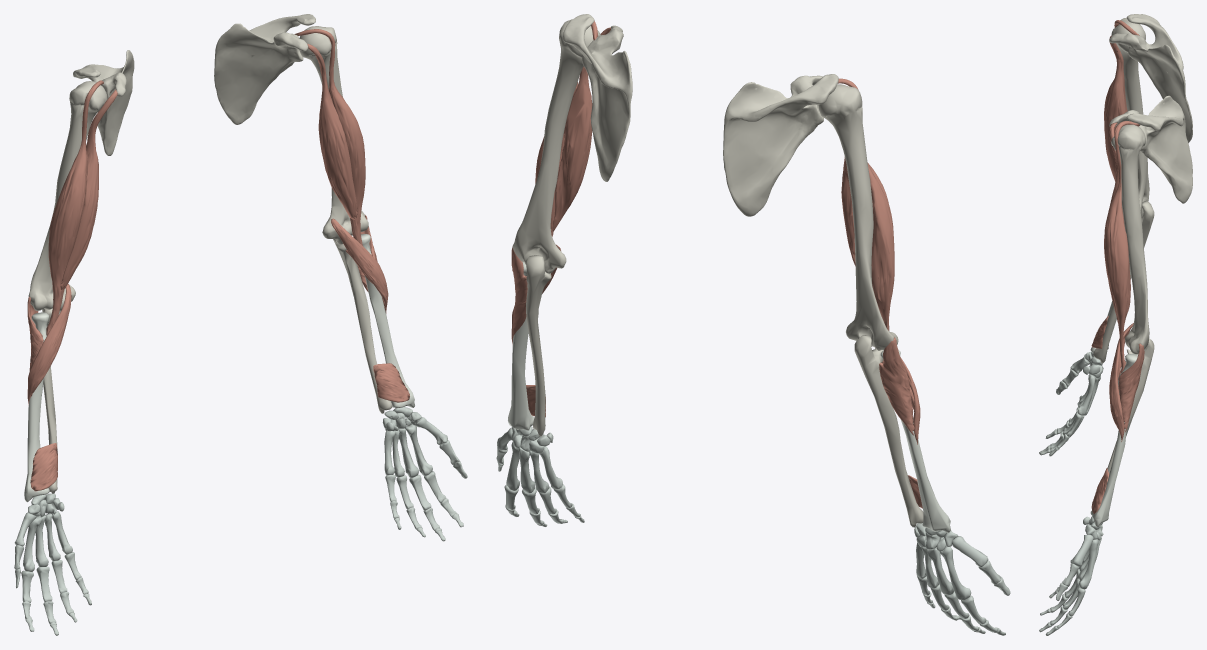
Rendered from motion-forearm.glb.
3 views of the same model, side by side, from view 1: azimuth 30°, elevation 25°; view 2: azimuth 150°, elevation 25°; view 3: azimuth 270°, elevation 25° (orthographic). The views are drawn at different scales.
Parts seen in each view (by area): view 1: Left Scapula, Right Long head of biceps brachii, Right Humerus, Left Short head of biceps brachii, Right Scapula, Left Long head of biceps brachii, Right Short head of biceps brachii, Left Humerus, Left Ulna, Right Radius, Right Superficial head of pronator teres, Left Radius (+4 smaller); view 2: Right Scapula, Right Humerus, Left Scapula, Left Humerus, Left Short head of biceps brachii, Right Ulna, Right Long head of biceps brachii, Left Ulna, Left Radius, Right Supinator, Right Radius, Left Supinator (+1 smaller); view 3: Left Humerus, Left Scapula, Right Scapula, Left Long head of biceps brachii, Right Humerus, Right Short head of biceps brachii, Left Radius, Left Supinator, Left Superficial head of pronator teres, Right Ulna, Left Ulna, Left Second metacarpal bone (+6 smaller).
Part boxes in pixels (x1,y1,x2,y2): Left Scapula: (214, 14, 315, 124); Right Long head of biceps brachii: (46, 80, 103, 335); Right Humerus: (28, 81, 107, 311); Left Short head of biceps brachii: (307, 43, 357, 219); Right Scapula: (73, 50, 134, 155); Left Long head of biceps brachii: (294, 29, 365, 245); Right Short head of biceps brachii: (60, 89, 117, 290); Left Humerus: (299, 26, 368, 244); Left Ulna: (333, 239, 391, 413); Right Radius: (24, 312, 49, 502); Right Superficial head of pronator teres: (27, 284, 71, 405); Left Radius: (361, 234, 414, 407); Right Scapula: (723, 74, 838, 216); Right Humerus: (818, 84, 898, 350); Left Scapula: (563, 14, 632, 181); Left Humerus: (512, 19, 600, 273); Left Short head of biceps brachii: (551, 27, 610, 232); Right Ulna: (854, 335, 923, 527); Right Long head of biceps brachii: (838, 78, 894, 330); Left Ulna: (526, 255, 551, 436); Left Radius: (508, 262, 534, 430); Right Supinator: (879, 337, 914, 435); Right Radius: (880, 350, 950, 532); Left Supinator: (511, 247, 527, 337); Left Humerus: (1111, 124, 1149, 354); Left Scapula: (1109, 95, 1192, 203); Right Scapula: (1109, 14, 1192, 142); Left Long head of biceps brachii: (1104, 121, 1140, 372); Right Humerus: (1111, 18, 1149, 217); Right Short head of biceps brachii: (1104, 35, 1127, 181); Left Radius: (1090, 353, 1137, 526); Left Supinator: (1118, 343, 1144, 432); Left Superficial head of pronator teres: (1109, 323, 1133, 441); Right Ulna: (1093, 200, 1154, 363); Left Ulna: (1107, 338, 1154, 473); Left Second metacarpal bone: (1079, 539, 1098, 589).
Bounding box in the file's own units: 0.6692 × 0.7192 × 0.2099.
